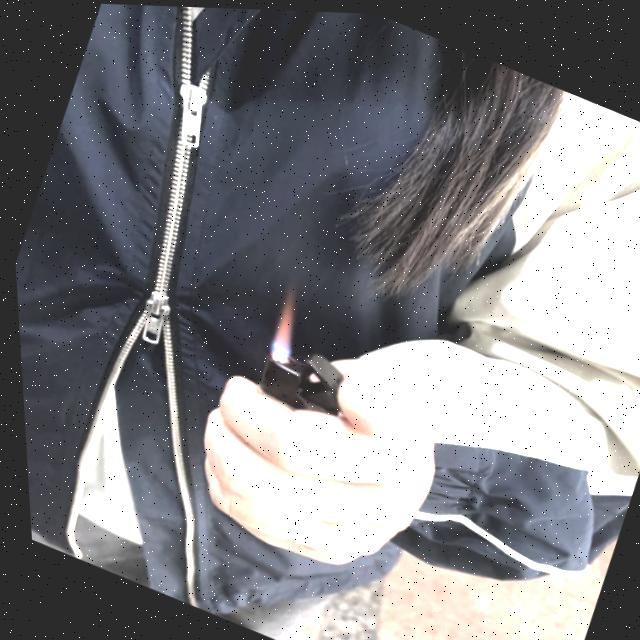Fire: (254, 286, 311, 363)
